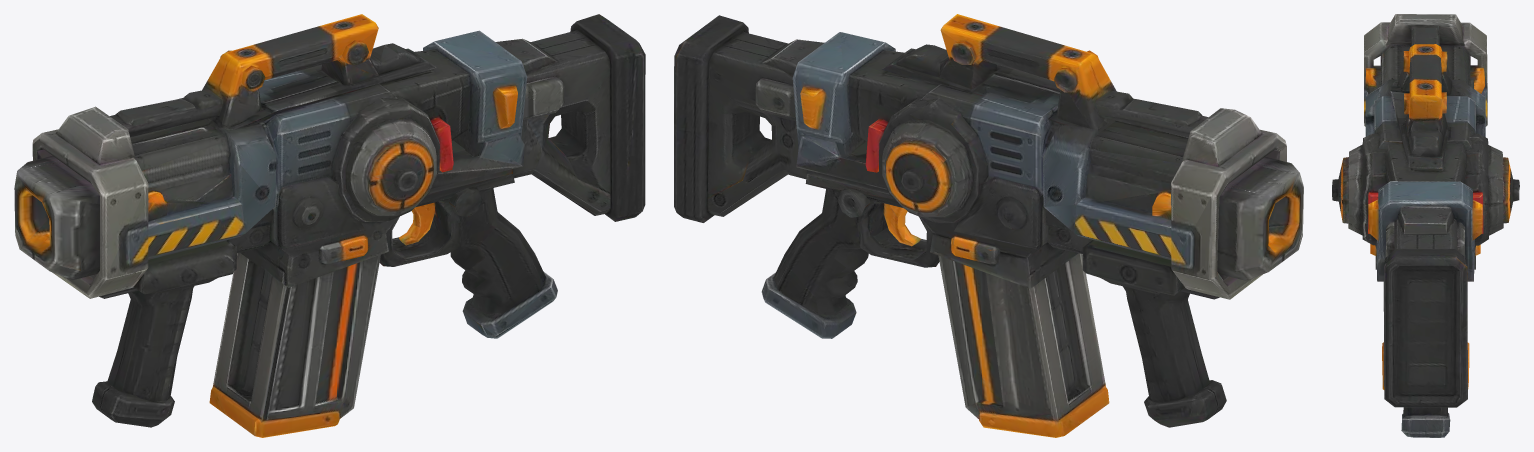
File: nailgun.glb
3 views of the same model, side by side, from view 1: azimuth 30°, elevation 25°; view 2: azimuth 150°, elevation 25°; view 3: azimuth 270°, elevation 25° (orthographic). The views are drawn at different scales.
Parts seen in each view (by area): view 1: mesh_node; view 2: mesh_node; view 3: mesh_node.
Part boxes in pixels (box(x1,y1,x2,y2)): mesh_node: box(14, 14, 645, 437); mesh_node: box(674, 14, 1303, 437); mesh_node: box(1332, 14, 1519, 437).
Bounding box in the file's own units: 1 × 0.6113 × 0.3252.
1 material, 1 textured.
